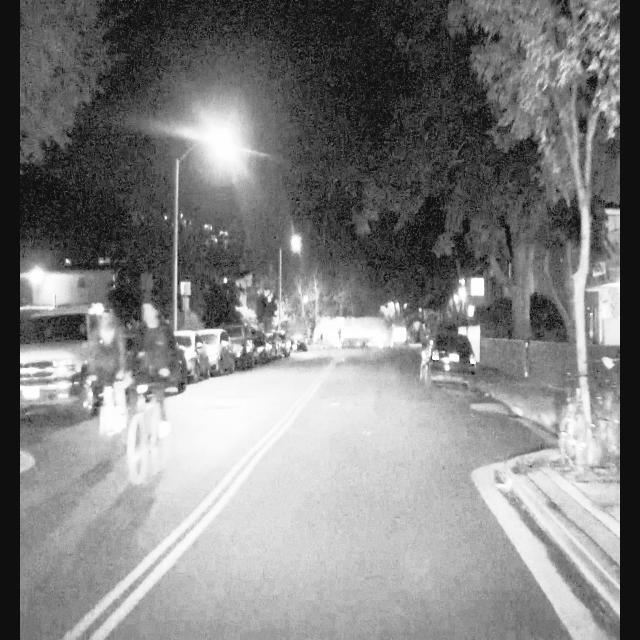Bicycle: (122, 382, 176, 487)
Car: (19, 306, 128, 421)
Tree: (545, 0, 614, 467)
